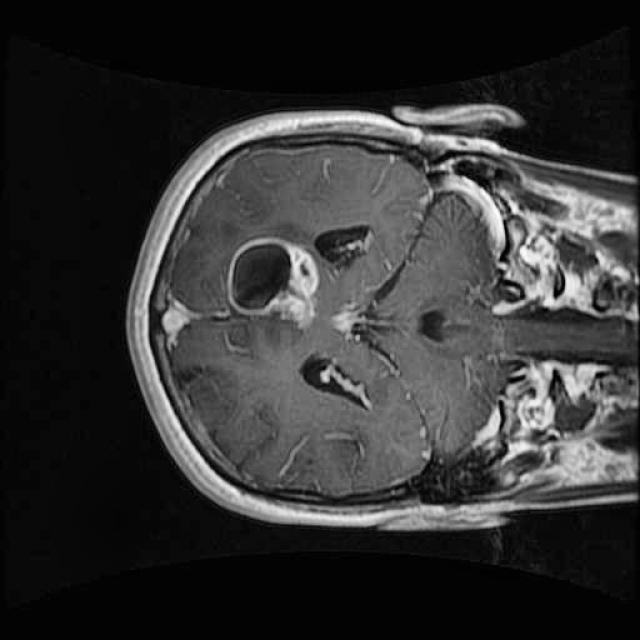Non-Tumor: (216, 228, 331, 336)
